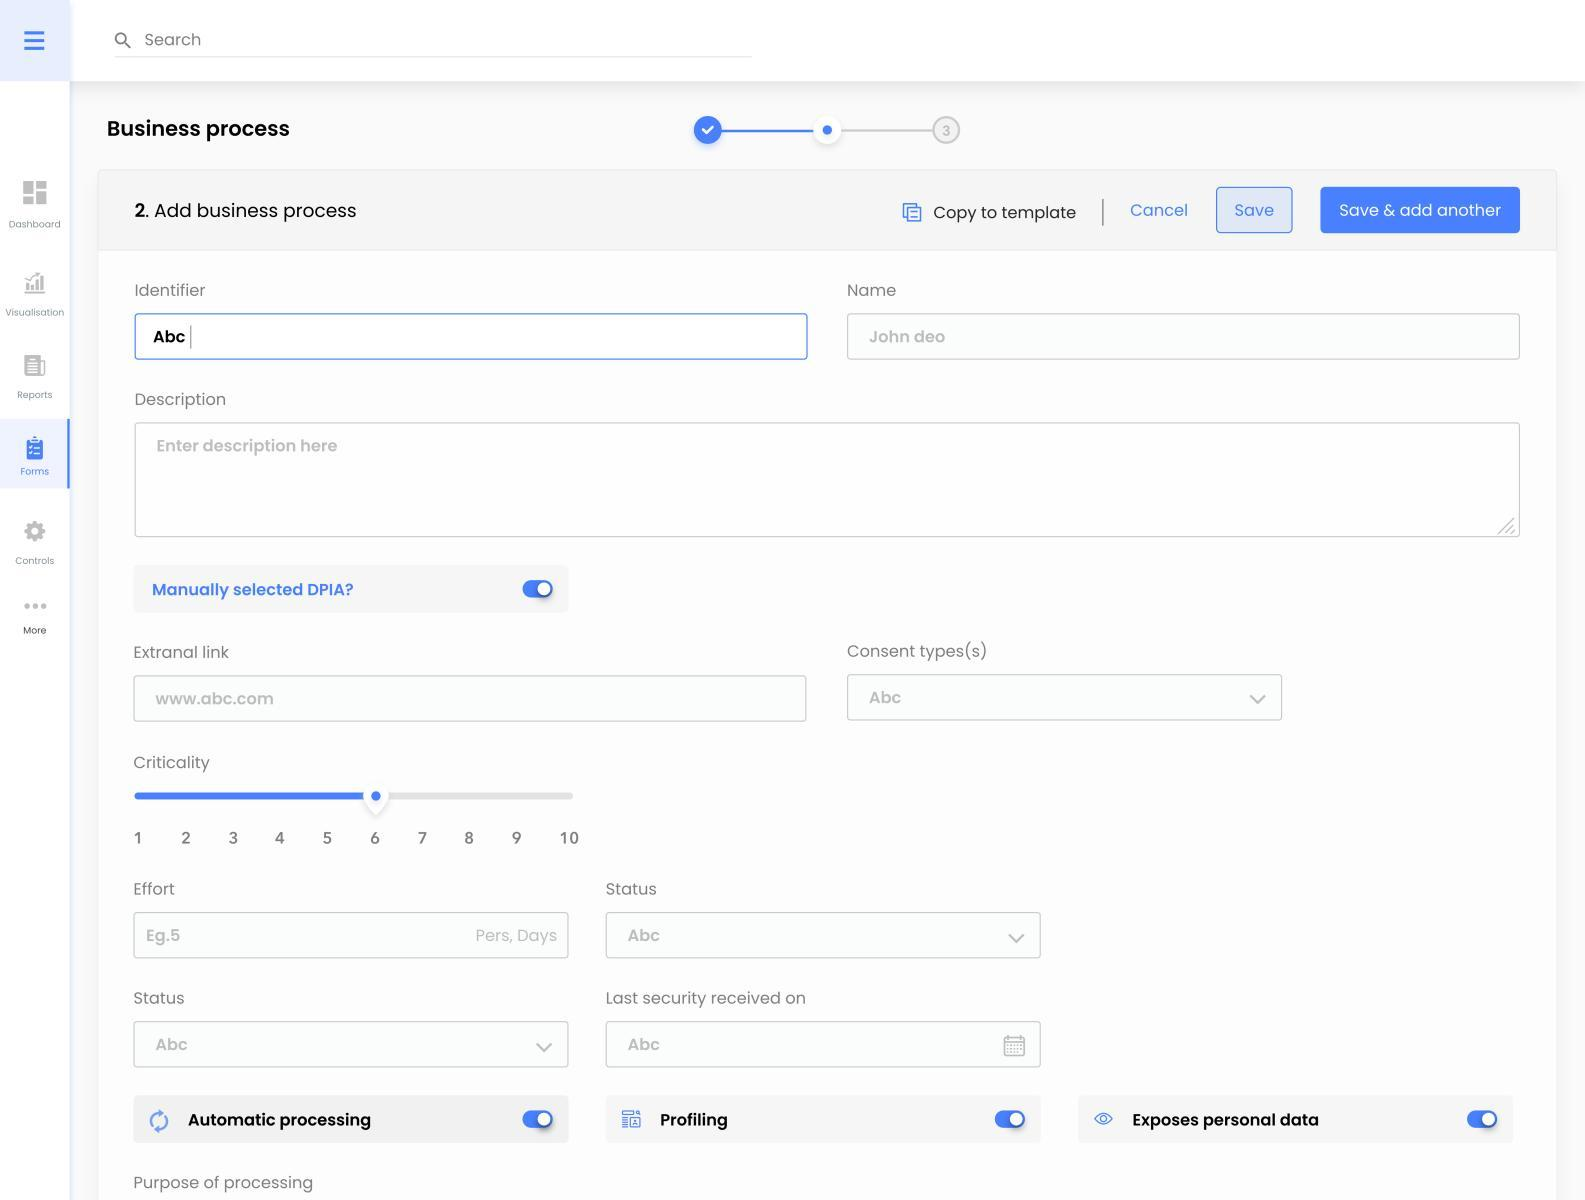button: (1320, 187, 1522, 236), (1218, 187, 1295, 234)
dropdown: (135, 1021, 568, 1069), (847, 676, 1283, 722), (609, 914, 1043, 959)
icon: (21, 178, 52, 209), (21, 350, 50, 381), (21, 517, 52, 546), (21, 268, 49, 296), (900, 197, 926, 226), (620, 1104, 645, 1134), (25, 435, 48, 465), (21, 29, 47, 54), (147, 1111, 170, 1134), (115, 32, 135, 52), (21, 603, 54, 614), (1095, 1111, 1114, 1127)
input: (134, 676, 808, 724), (849, 314, 1521, 362), (135, 314, 808, 361), (607, 1021, 1041, 1066), (134, 915, 569, 958)
label: (145, 570, 367, 610), (105, 111, 305, 153), (137, 198, 368, 228), (605, 984, 805, 1013), (131, 1171, 315, 1197), (178, 1112, 384, 1134), (1134, 1112, 1322, 1131), (931, 202, 1084, 224), (121, 642, 241, 668), (132, 388, 237, 413), (131, 750, 217, 774), (661, 1108, 731, 1134), (1126, 202, 1194, 224), (135, 281, 210, 300), (125, 877, 185, 900), (598, 880, 661, 901), (137, 989, 190, 1011), (847, 282, 900, 303), (5, 217, 66, 234), (5, 308, 66, 321), (15, 555, 59, 568), (13, 389, 55, 403), (20, 468, 54, 478), (21, 628, 49, 637)
switch: (524, 579, 554, 603), (523, 1111, 554, 1131), (1468, 1111, 1499, 1129), (997, 1111, 1027, 1129)
